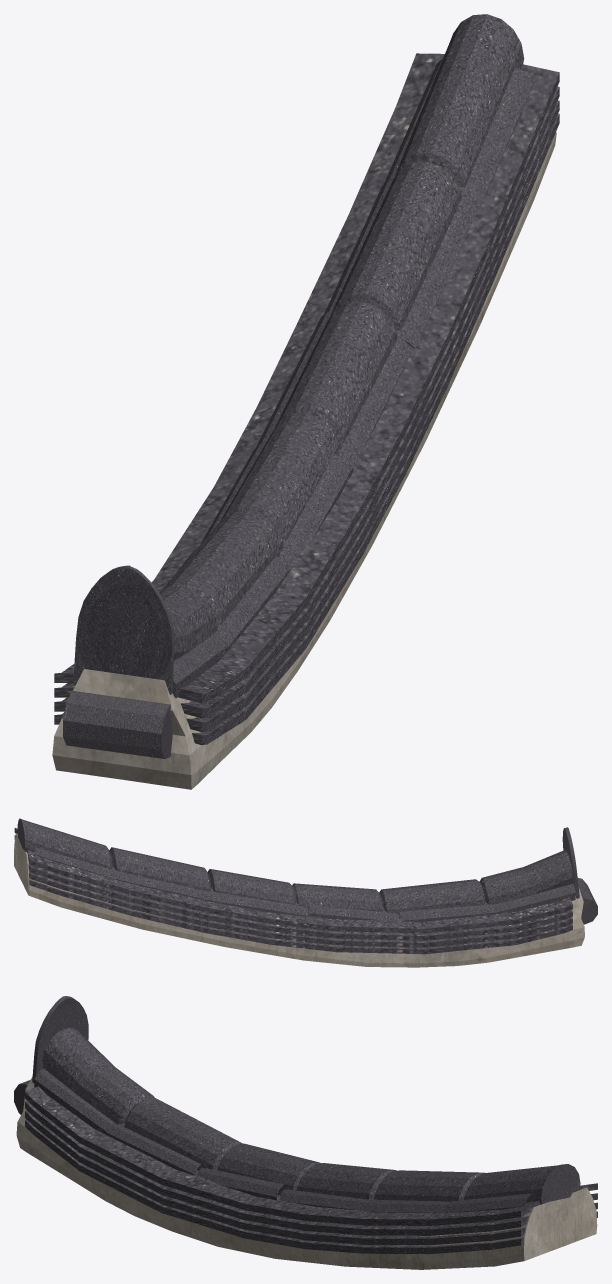
The model's file is SM_R_BeamRoof_15.fbx.
The picture shows the model from 3 angles, top to bottom: view 1: azimuth 30°, elevation 25°; view 2: azimuth 150°, elevation 25°; view 3: azimuth 270°, elevation 25°; orthographic projection. The views are drawn at different scales.
Visible parts, largest first — view 1: SM_R_BeamRoof_15; view 2: SM_R_BeamRoof_15; view 3: SM_R_BeamRoof_15.
Part boxes in pixels (x1,y1,x2,y2): SM_R_BeamRoof_15: (52, 14, 559, 789); SM_R_BeamRoof_15: (14, 818, 597, 967); SM_R_BeamRoof_15: (14, 996, 597, 1269).
Size of the model in its own units: 296 by 265 by 114.
Materials: 2 (2 with a texture image).
